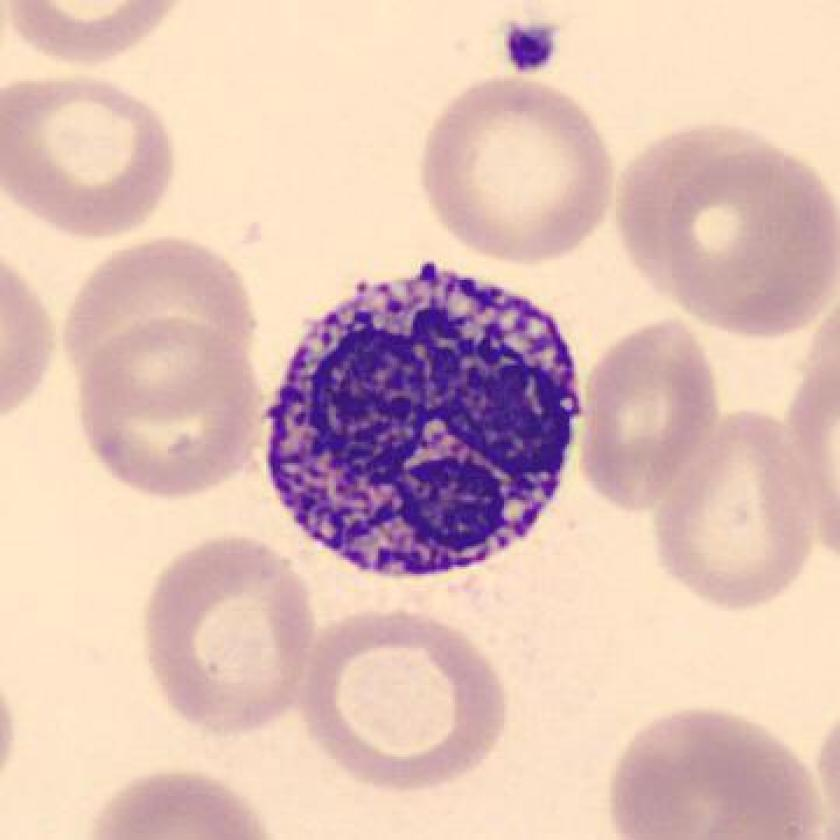basophil: (260, 253, 582, 589)
